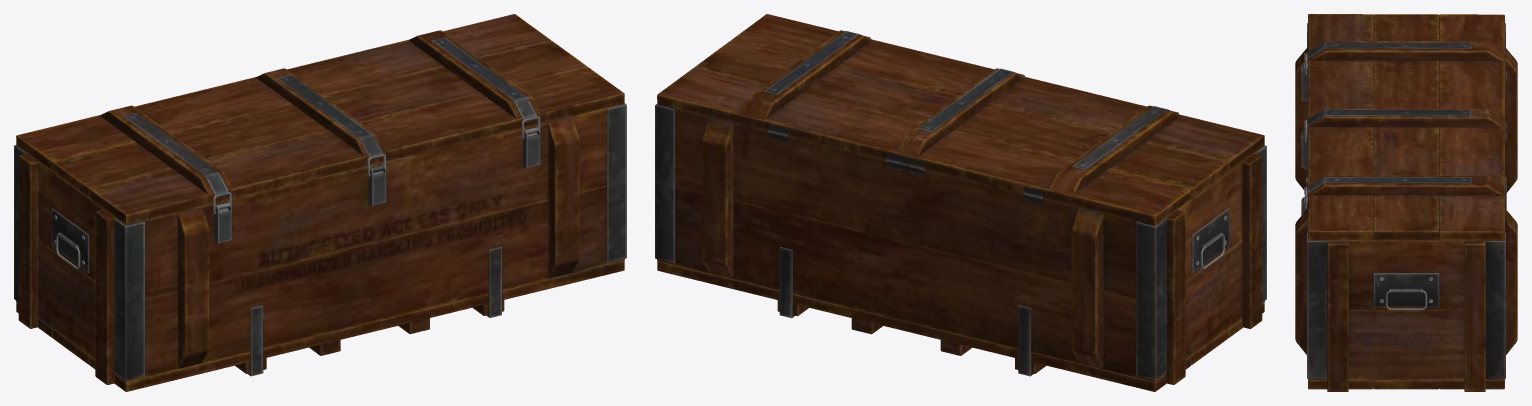
Rendered from wooden_military_crate.glb.
The picture shows the model from 3 angles, left to right: view 1: azimuth 30°, elevation 25°; view 2: azimuth 150°, elevation 25°; view 3: azimuth 270°, elevation 25°; orthographic projection. The views are drawn at different scales.
Visible parts, largest first — view 1: wooden_military_crate, wooden_military_crate_lid; view 2: wooden_military_crate, wooden_military_crate_lid; view 3: wooden_military_crate_lid, wooden_military_crate.
Boxes of the visible parts, left/top/right/bottom form: wooden_military_crate: left=14, top=103, right=626, bottom=391; wooden_military_crate_lid: left=16, top=14, right=624, bottom=224; wooden_military_crate: left=655, top=104, right=1266, bottom=391; wooden_military_crate_lid: left=657, top=14, right=1264, bottom=225; wooden_military_crate_lid: left=1304, top=14, right=1506, bottom=240; wooden_military_crate: left=1295, top=23, right=1517, bottom=391.
Bounding box in the file's own units: 1.24 × 0.4646 × 0.5198.
Materials: 1 (1 with a texture image).
